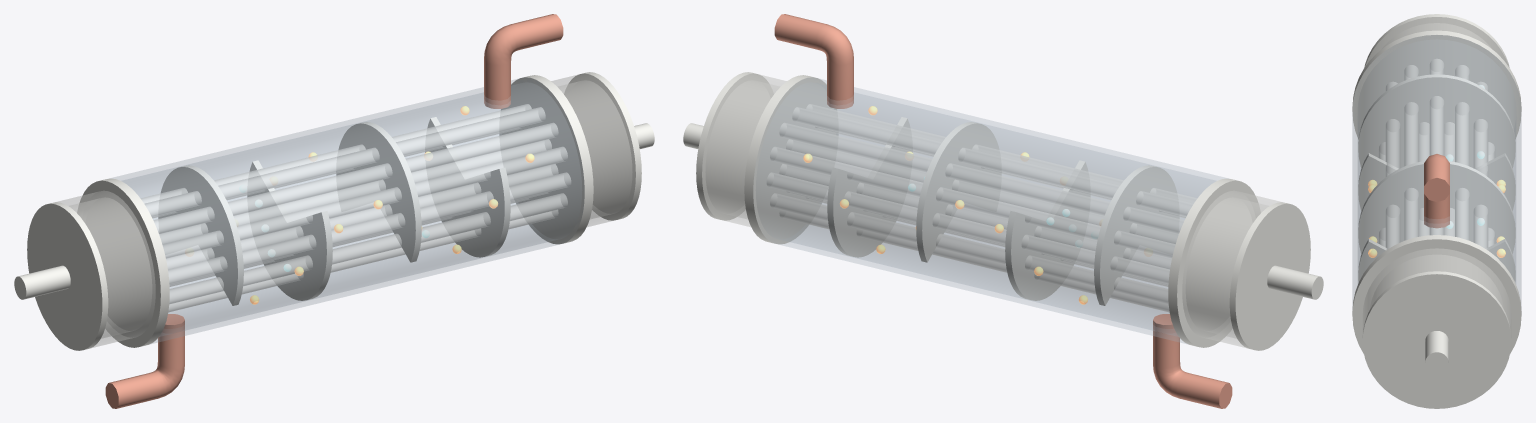
3 views of the same model, side by side, from view 1: azimuth 30°, elevation 25°; view 2: azimuth 150°, elevation 25°; view 3: azimuth 270°, elevation 25° (orthographic).
Parts seen in each view (by area): view 1: 壳体, 管板-1, 封头盖-1, 封头-1, 封头盖1, 管板1, 封头1, 细管11, 细管10, 细管12, 细管13, 细管14 (+11 smaller); view 2: 壳体, 管板-1, 封头盖-1, 封头-1, 封头盖1, 管板1, 封头1, 细管9, 细管10, 细管8, 细管7, 细管18 (+11 smaller); view 3: 壳体, 封头盖1, 挡板0, 管板-1, 管板1, 挡板2, 封头1, 封头盖-1, 挡板1, 细管9, 细管11, 热媒入口 (+10 smaller).
Part boxes in pixels (box(x1,y1,x2,y2)): 壳体: box(110, 77, 583, 343); 管板-1: box(77, 178, 169, 347); 封头盖-1: box(27, 202, 108, 350); 封头-1: box(54, 190, 155, 348); 封头盖1: box(564, 72, 641, 220); 管板1: box(499, 75, 593, 244); 封头1: box(551, 74, 635, 226); 细管11: box(153, 123, 558, 233); 细管10: box(144, 107, 545, 216); 细管12: box(162, 147, 567, 258); 细管13: box(168, 172, 570, 284); 细管14: box(169, 193, 567, 303); 壳体: box(753, 78, 1227, 343); 管板-1: box(1168, 178, 1260, 347); 封头盖-1: box(1229, 202, 1310, 350); 封头-1: box(1182, 190, 1283, 348); 封头盖1: box(696, 72, 773, 220); 管板1: box(744, 75, 838, 244); 封头1: box(702, 74, 786, 226); 细管9: box(779, 123, 1184, 233); 细管10: box(792, 107, 1193, 216); 细管8: box(770, 147, 1175, 258); 细管7: box(767, 172, 1169, 284); 细管18: box(770, 193, 1168, 303); 壳体: box(1352, 35, 1521, 305); 封头盖1: box(1362, 271, 1511, 408); 挡板0: box(1358, 74, 1515, 167); 管板-1: box(1352, 30, 1521, 167); 管板1: box(1352, 235, 1521, 353); 挡板2: box(1358, 161, 1515, 253); 封头1: box(1362, 248, 1511, 334); 封头盖-1: box(1364, 14, 1509, 67); 挡板1: box(1358, 153, 1515, 210); 细管9: box(1455, 65, 1469, 240); 细管11: box(1404, 65, 1418, 240); 热媒入口: box(1424, 154, 1449, 228).
Size of the model in its own units: 2.12 by 0.92 by 0.5.
